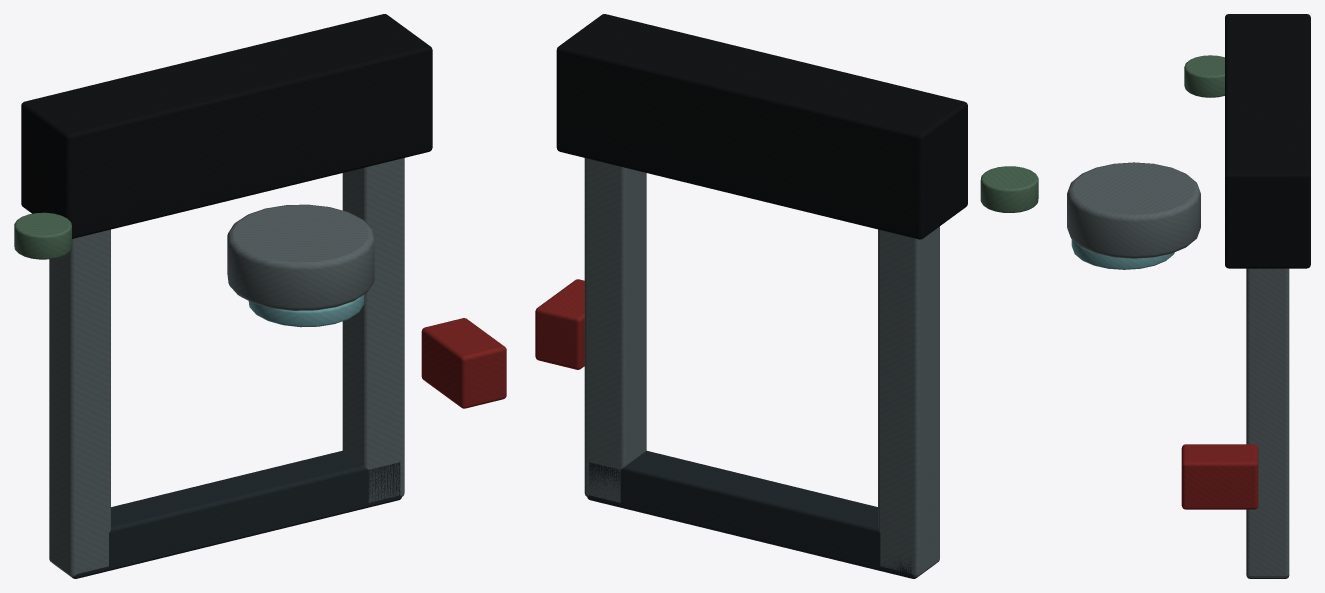
Rendered from DeconShower.fbx.
3 renders of one model, left to right at view 1: azimuth 30°, elevation 25°; view 2: azimuth 150°, elevation 25°; view 3: azimuth 270°, elevation 25°, orthographic. The views are drawn at different scales.
Parts seen in each view (by area): view 1: DeconShower_Mesh; view 2: DeconShower_Mesh; view 3: DeconShower_Mesh.
Part boxes in pixels (left/top/right/bottom): DeconShower_Mesh: left=14, top=14, right=506, bottom=578; DeconShower_Mesh: left=535, top=14, right=1038, bottom=578; DeconShower_Mesh: left=1067, top=14, right=1310, bottom=578.
Size of the model in its own units: 103 by 95.5 by 51.
Materials: 6 (6 with a texture image).
